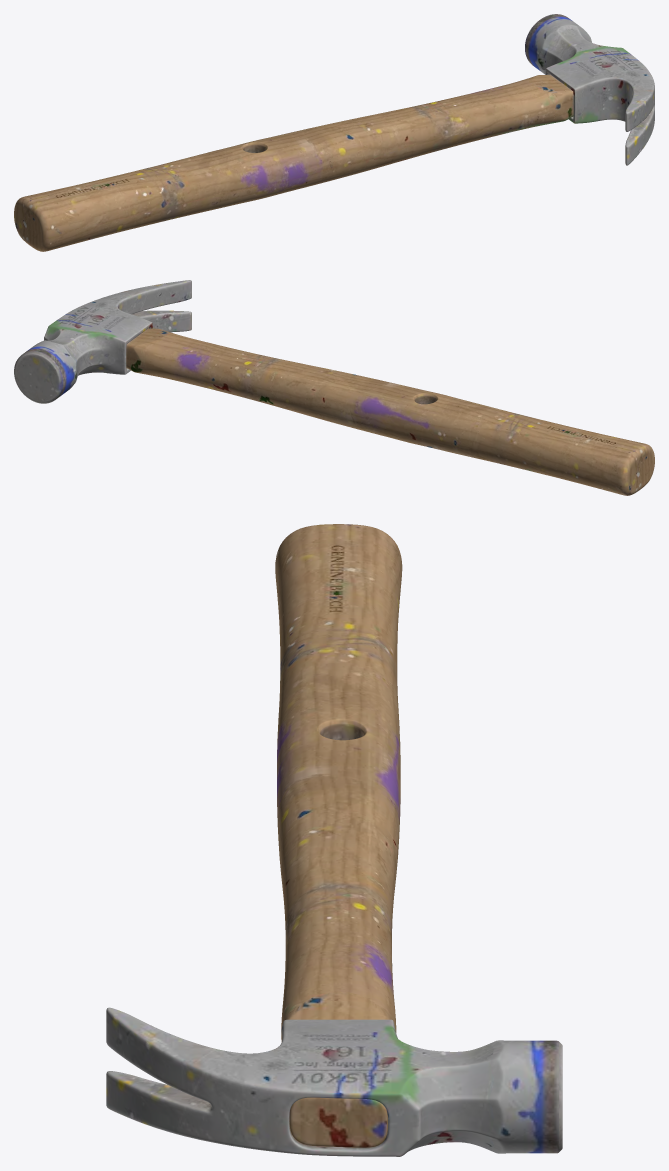
Rendered from tool_hammer_a01.glb.
The picture shows the model from 3 angles, top to bottom: view 1: azimuth 30°, elevation 25°; view 2: azimuth 150°, elevation 25°; view 3: azimuth 270°, elevation 25°; orthographic projection. The views are drawn at different scales.
Parts seen in each view (by area): view 1: body_01_mesh_00; view 2: body_01_mesh_00; view 3: body_01_mesh_00.
Boxes of the visible parts, box(x1,y1,x2,y2) form: body_01_mesh_00: box(14, 14, 654, 251); body_01_mesh_00: box(14, 280, 654, 495); body_01_mesh_00: box(106, 524, 562, 1156).
Bounding box in the file's own units: 0.3045 × 0.0257 × 0.1042.
1 material, 1 textured.
